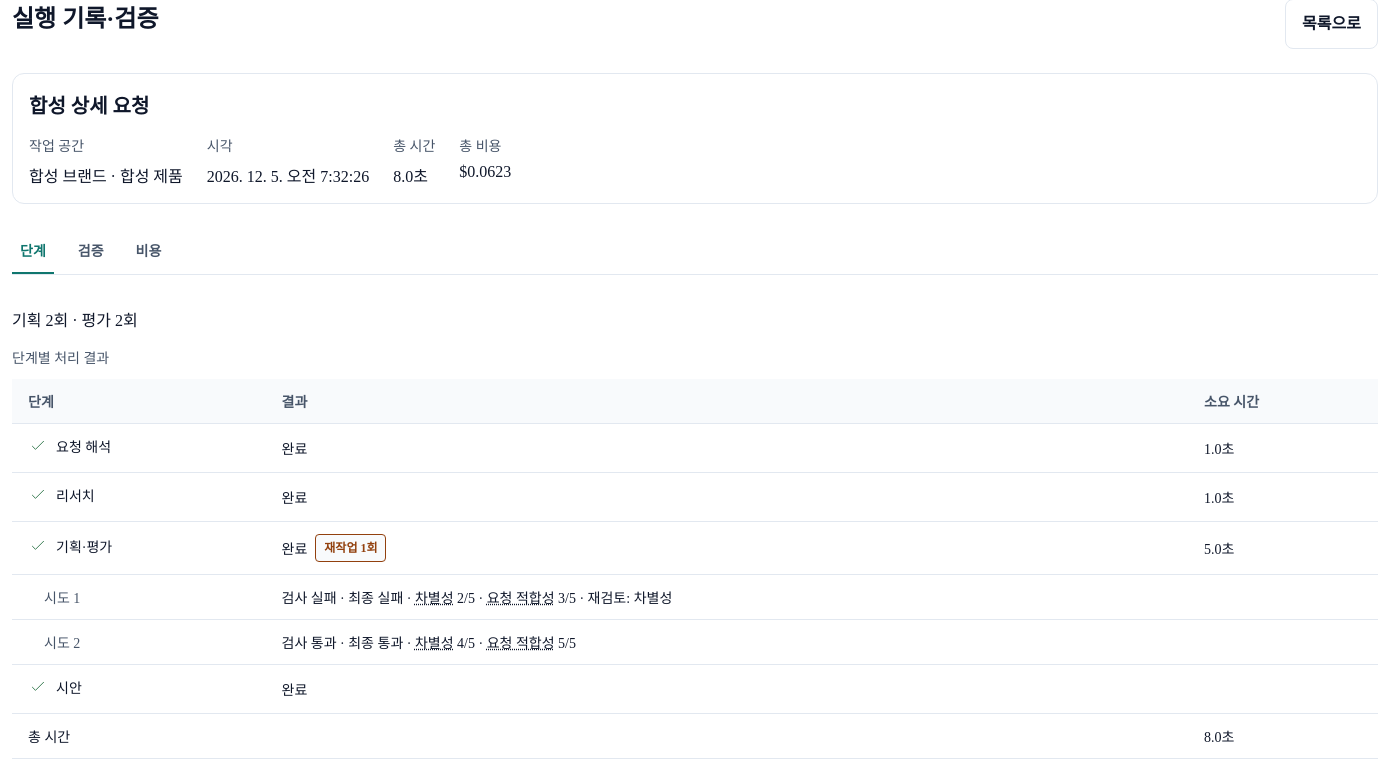
moves checks, verified insight charts and removed values into labeled blocks and hides model values, with identical chart source values
Later steps or results of the test are not shown.
Click the tab "검증": (91, 251) left=70, top=228, right=112, bottom=274
(page scrolled)
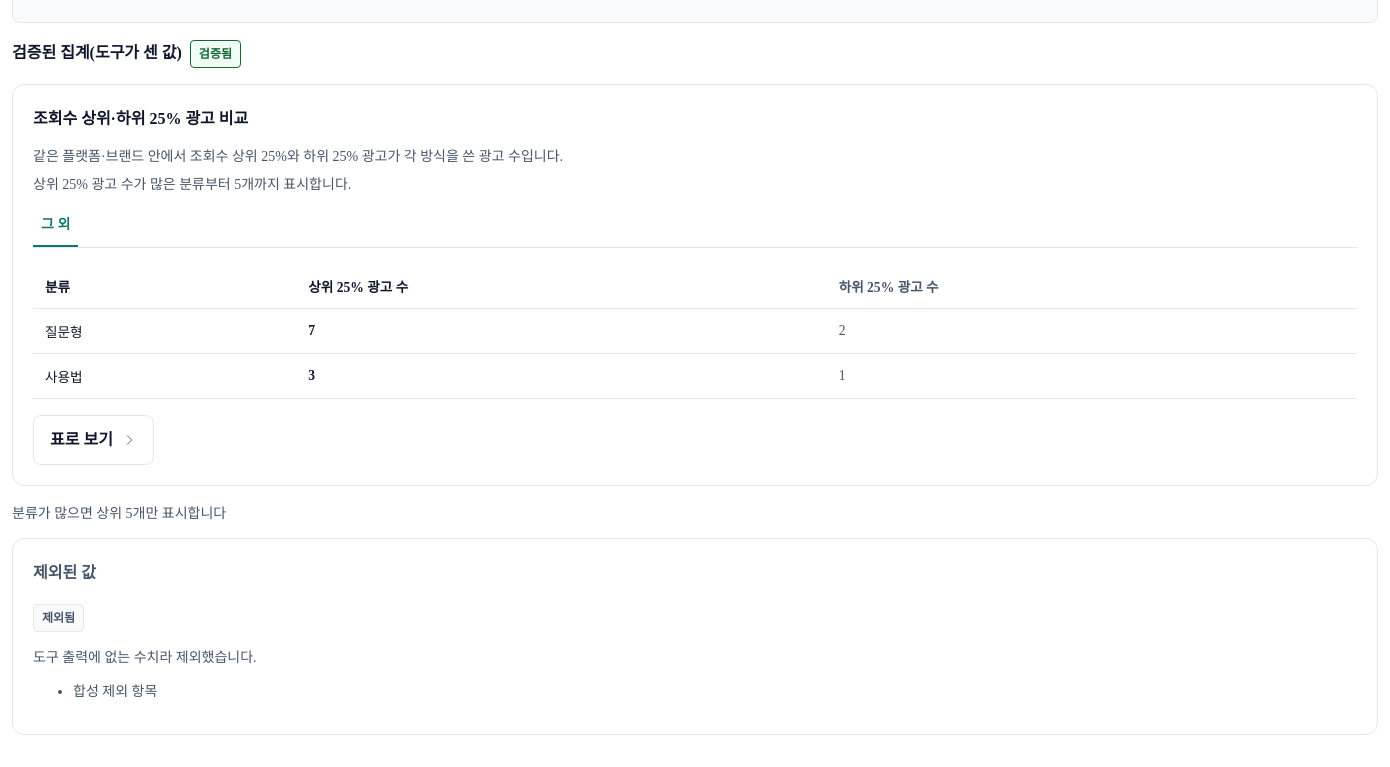
expect the text "검증됨" is shown: met, box left=190, top=40, right=241, bottom=68
expect the text "제외됨" is shown: met, box left=33, top=604, right=84, bottom=632
expect the list item "합성 제외 항목" is shown: met, box left=73, top=684, right=157, bottom=699
